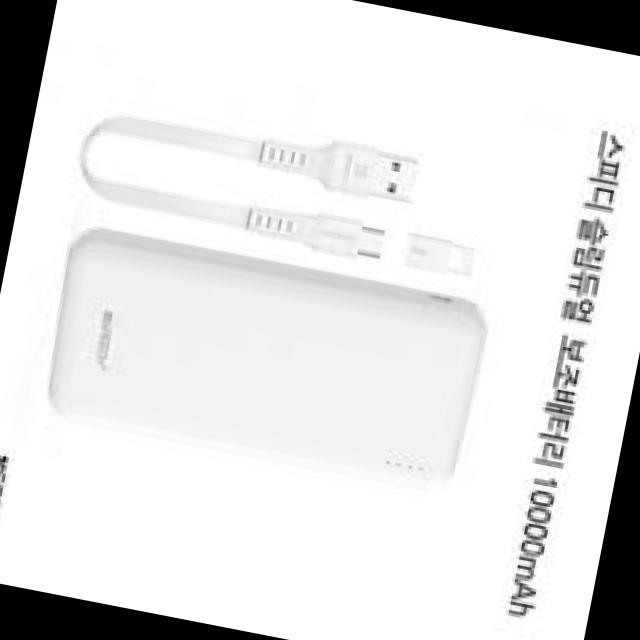power_bank: (39, 217, 498, 493)
